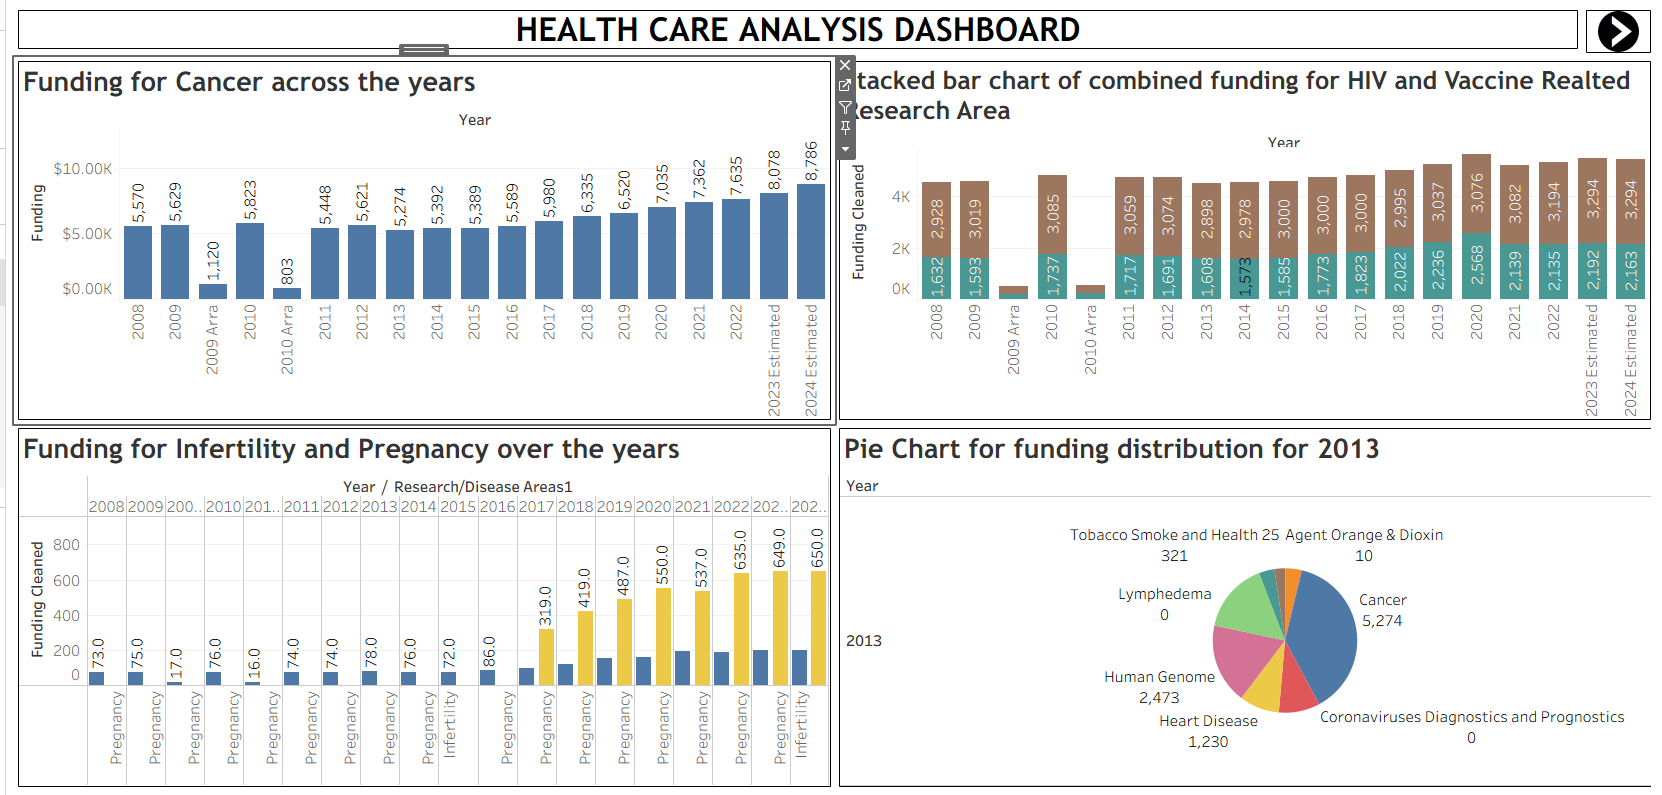

This screenshot's page, from the dashboard's own definition file:
{"tool":"tableau","page":{"name":"Dashboard 2","canvas":[1000,1000],"units":"permille","ordinal":1},"visuals":[{"type":"text","box":[4.8,10,946.3,58.7]},{"type":"dashboard-object","box":[951.1,10,44.1,63.7]},{"type":"worksheet","title":"Vertical Bar Chart","mark":"Automatic","rows":["Pivot Field Values"],"cols":["Pivot Field Names"],"box":[4.8,73.7,495.5,458.2]},{"type":"worksheet","title":"Stacked bar chart","mark":"Automatic","rows":["Calculation_335518175856336896"],"cols":["Pivot Field Names"],"box":[500.3,73.7,494.9,458.2]},{"type":"worksheet","title":"Side by Side bar Chart","mark":"Automatic","rows":["Calculation_335518175856336896"],"cols":["Pivot Field Names","Research/Disease Areas"],"box":[4.8,531.8,495.2,458.2]},{"type":"worksheet","title":"Pie Chart","mark":"Pie","rows":["Pivot Field Names"],"box":[500,531.8,495.2,458.2]}]}

Visuals, with their boxes on the dashboard's canvas, which has no fixed pixel size, in thousandths of its width and height (x1, y1, x2, y2). These are canvas units, not pixel positions in the 1662x795 screenshot, which may show the page scaled, cropped or inside an application window:
text: box=[5, 10, 951, 69]
dashboard-object: box=[951, 10, 995, 74]
"Vertical Bar Chart" worksheet: box=[5, 74, 500, 532]
"Stacked bar chart" worksheet: box=[500, 74, 995, 532]
"Side by Side bar Chart" worksheet: box=[5, 532, 500, 990]
"Pie Chart" worksheet (Pie marks): box=[500, 532, 995, 990]
